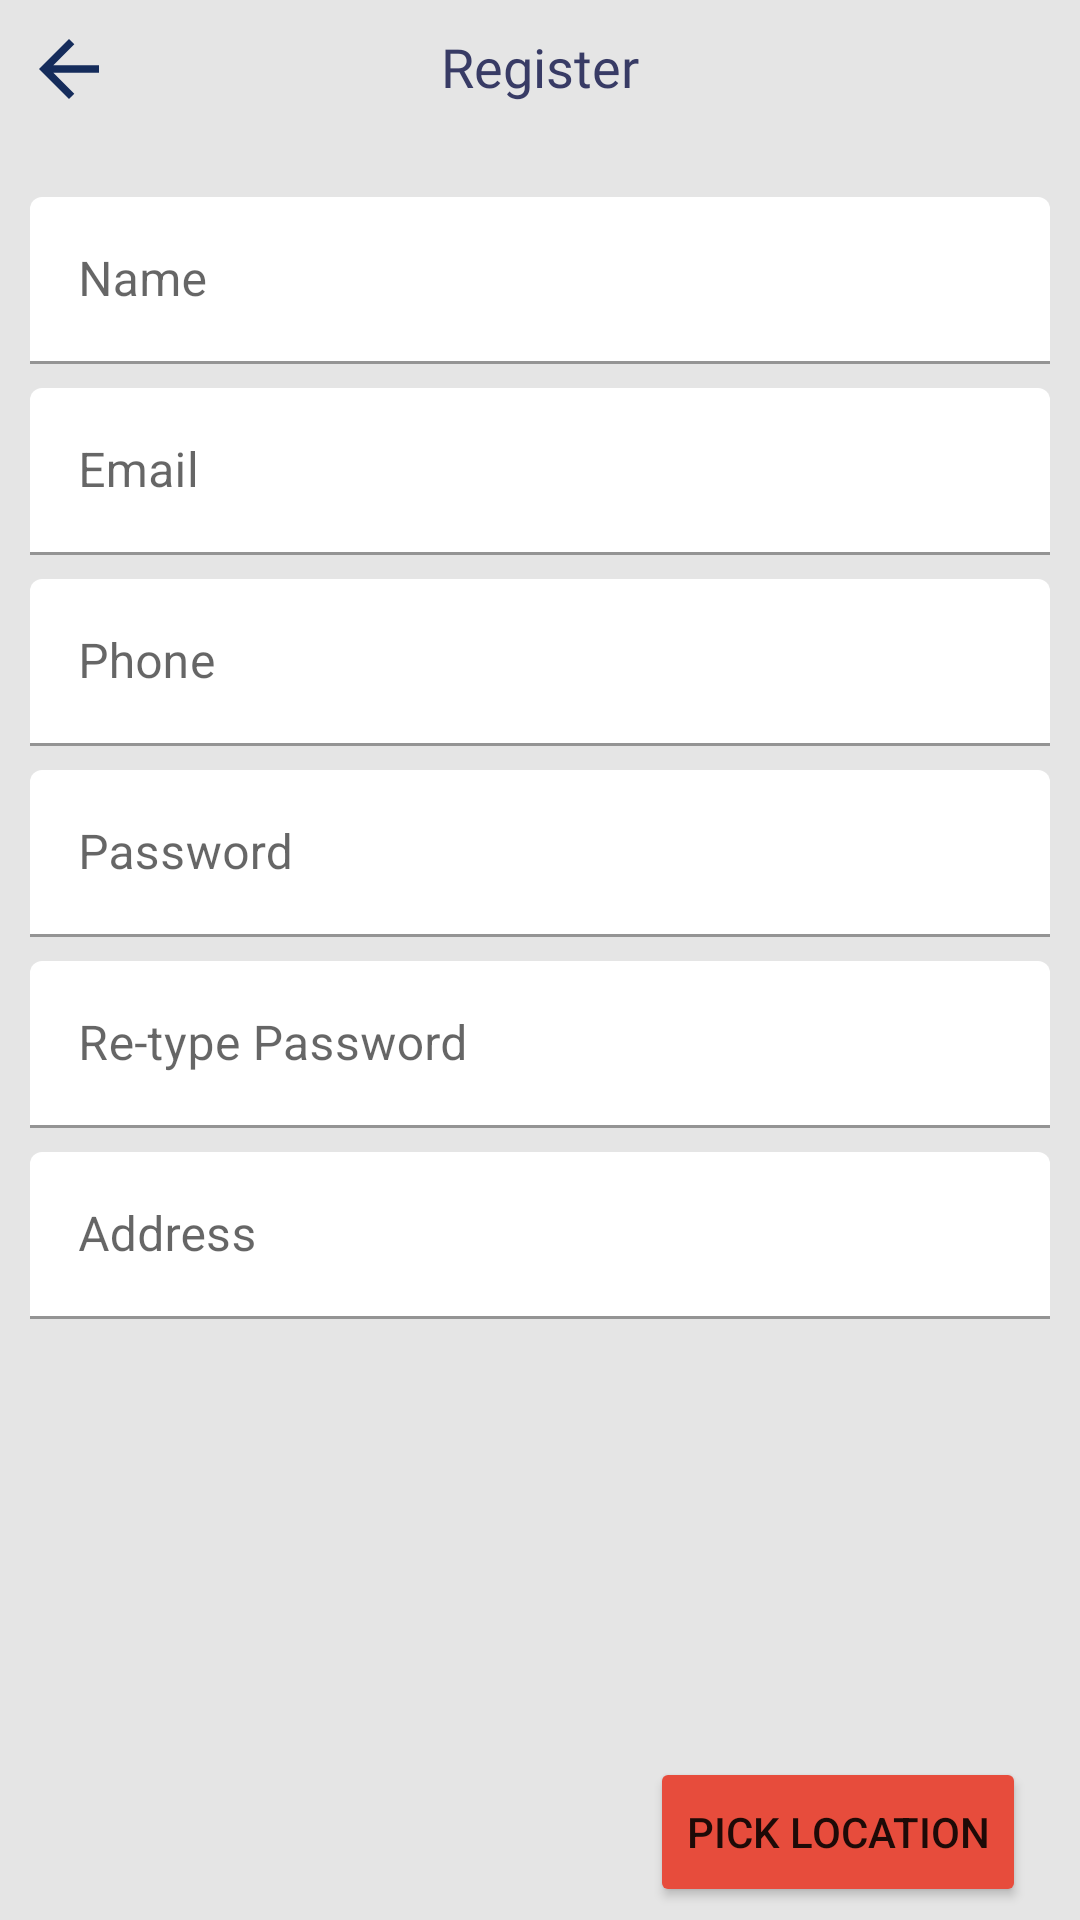

Icon bounding boxes for this 1080*1920 phone screenshot, format detection(x1, y1, x2, y2):
back: detection(39, 39, 99, 99)
